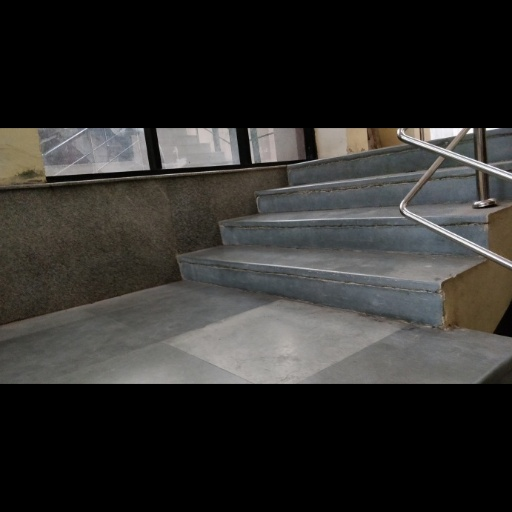Stairs: (179, 146, 481, 326), (412, 161, 486, 240)
